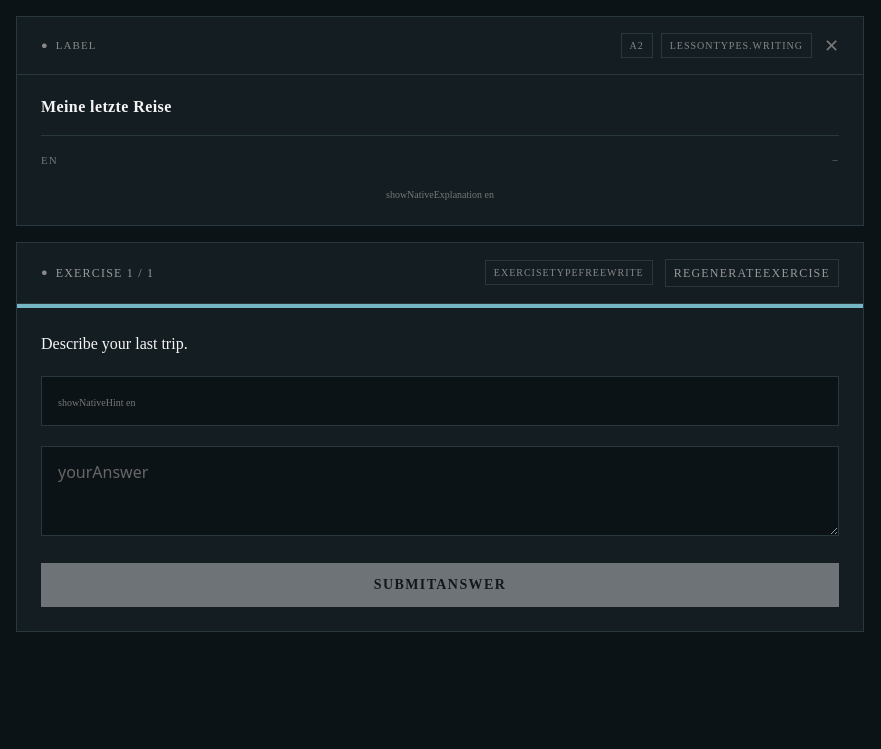
Scenario: LessonPage free-write corrections › renders inline annotations, the corrections list and the amber state after evaluation
Expected: the text "Describe your last trip." is shown, [41, 334, 188, 352]
Type "Ich habe viele abenteuer gehabt. Ich bin mit auto gefahren." into the text box with placeholder "yourAnswer" at (440, 490), box [41, 446, 839, 536]
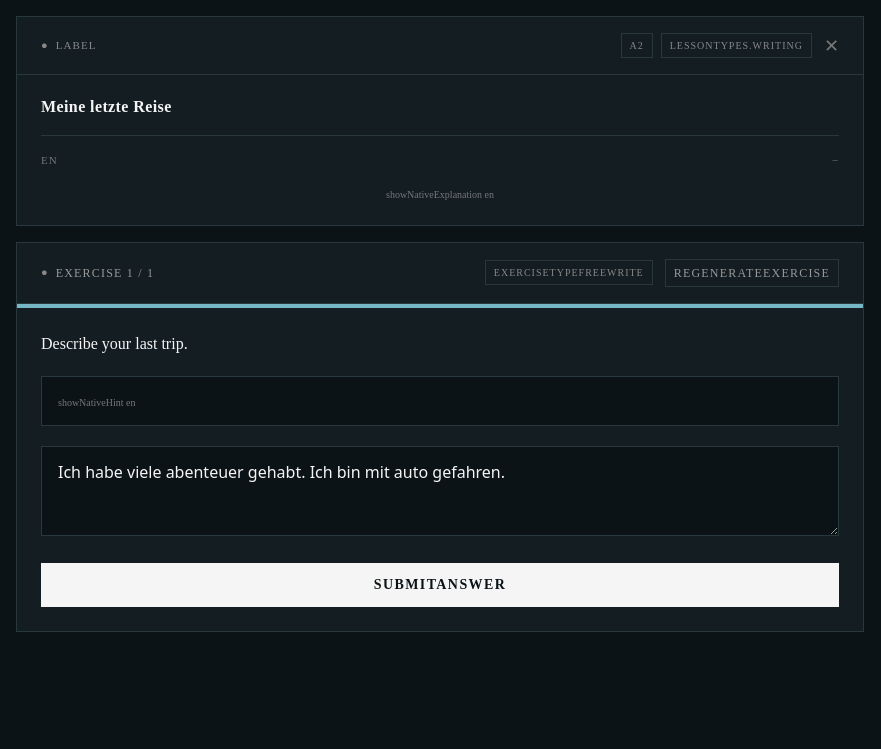
Click the button "submitAnswer" at (440, 584), box [41, 562, 839, 606]
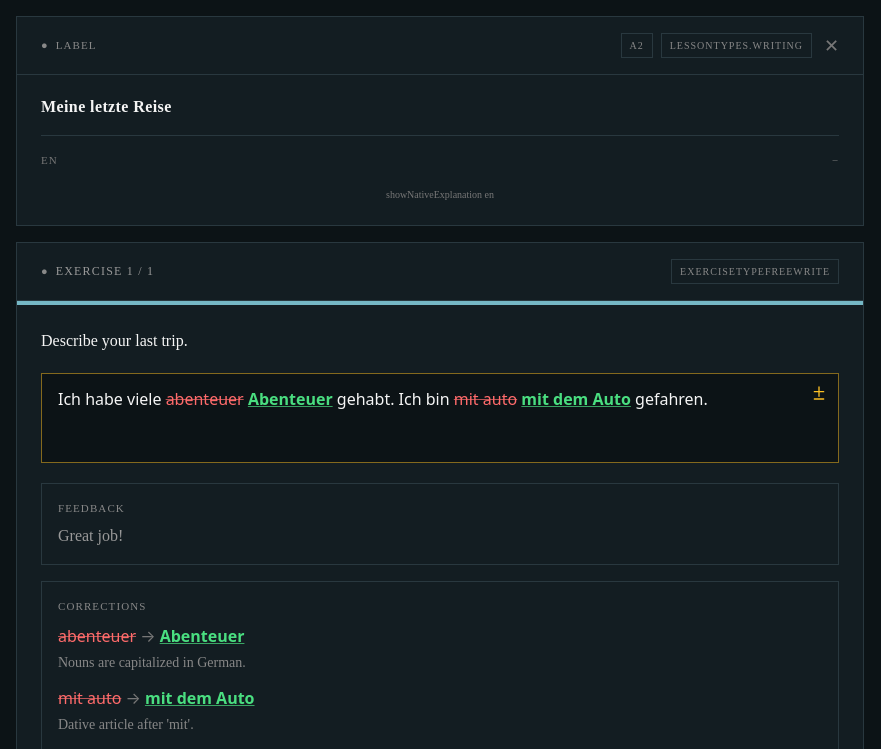
Result: the text box with placeholder "yourAnswer" is gone
Result: the text "Great job!" is shown at [58, 527, 123, 544]
